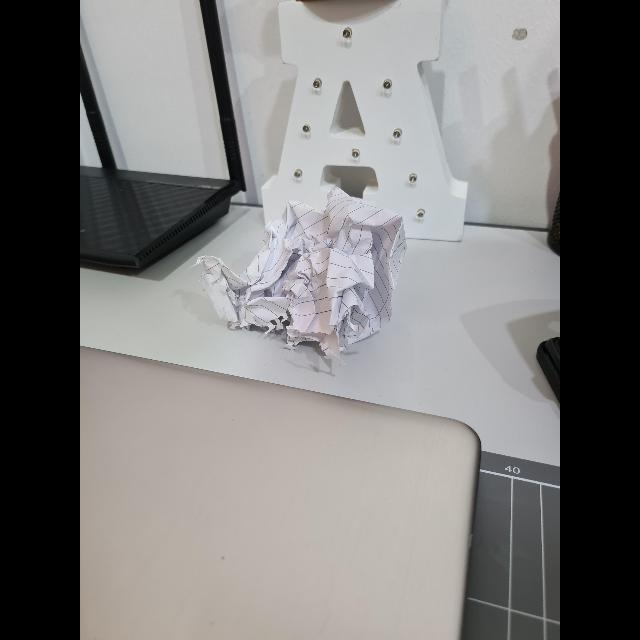scrap_paper: (200, 194, 408, 346)
